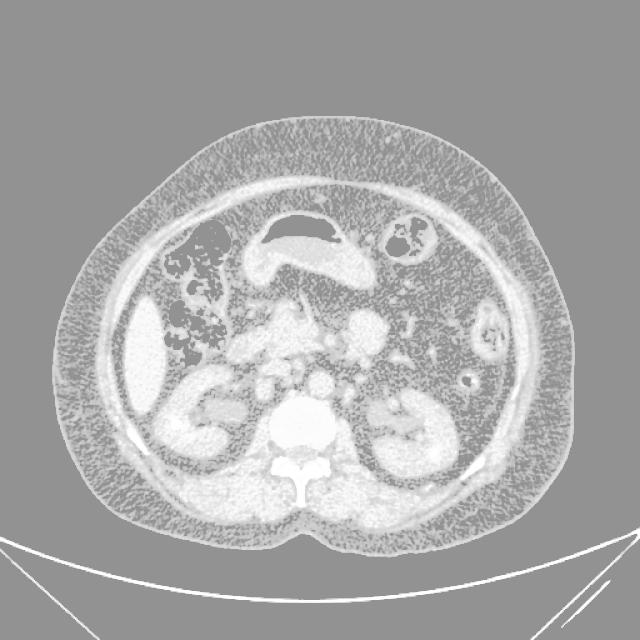STONE: (112, 191, 467, 336)
